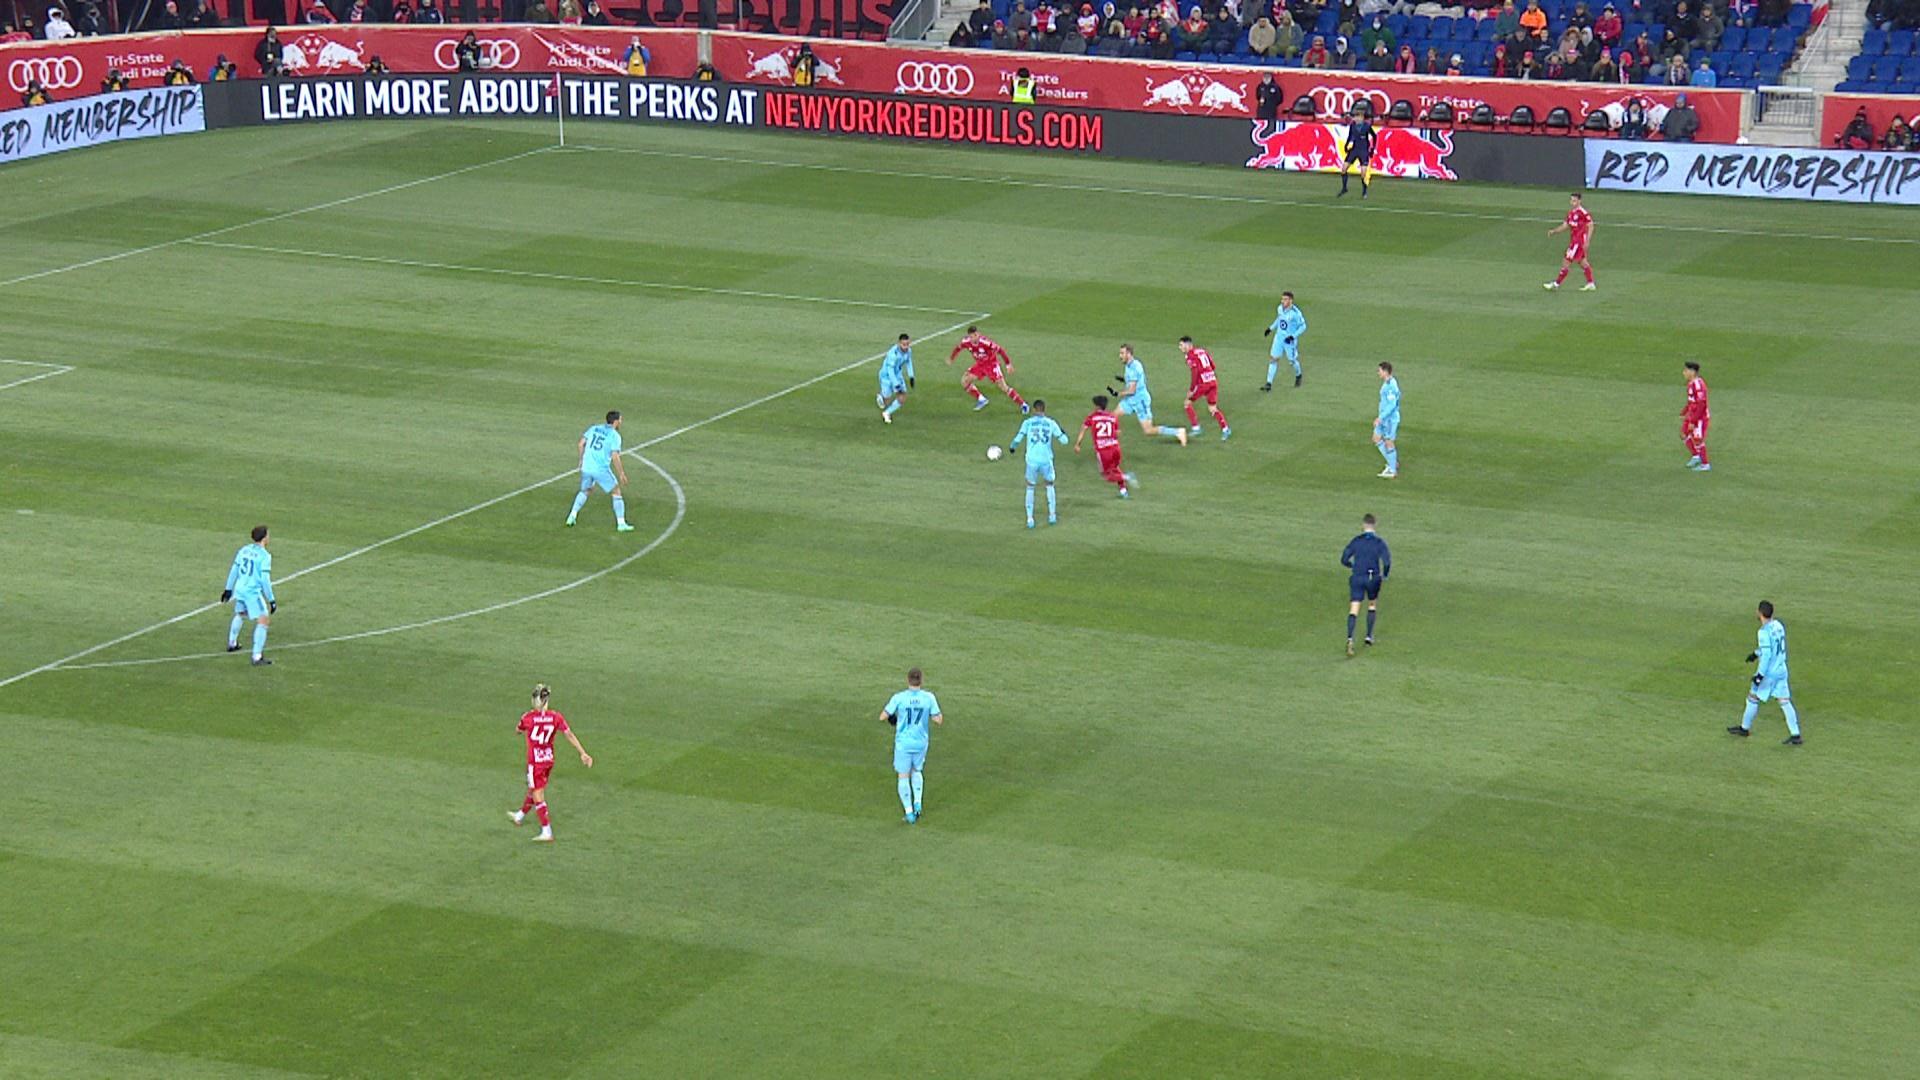football: (986, 444, 1004, 462)
